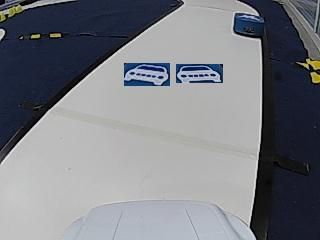prop: (233, 13, 265, 37)
